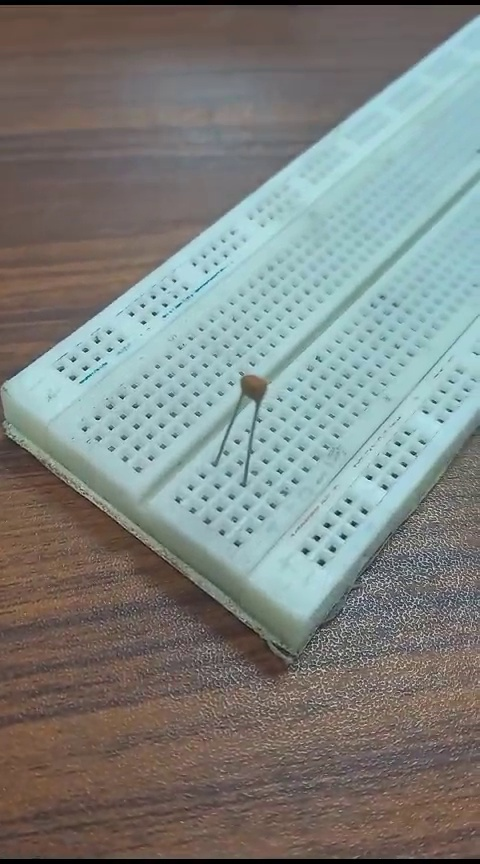ceramic capacitor: (216, 371, 292, 473)
